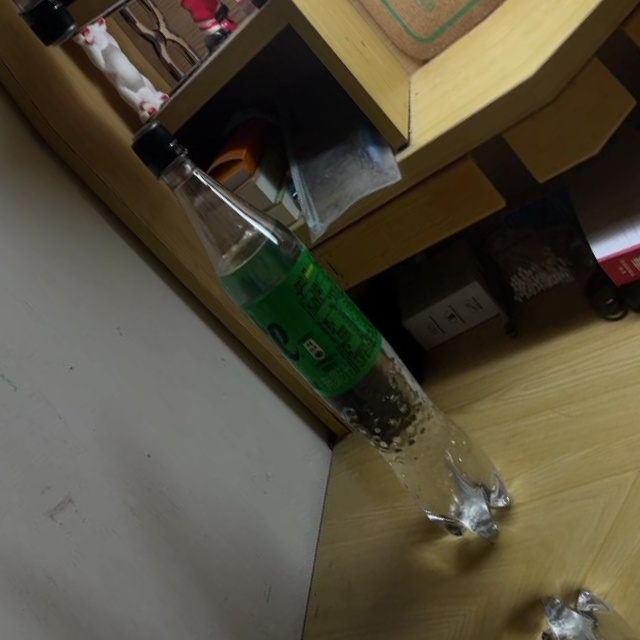Sprite: (108, 93, 528, 569)
